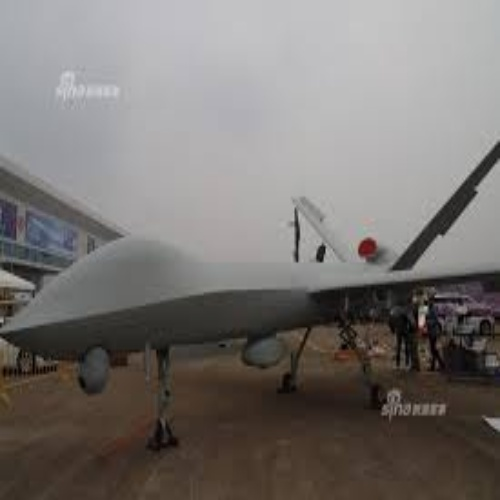uav: (4, 138, 500, 446)
